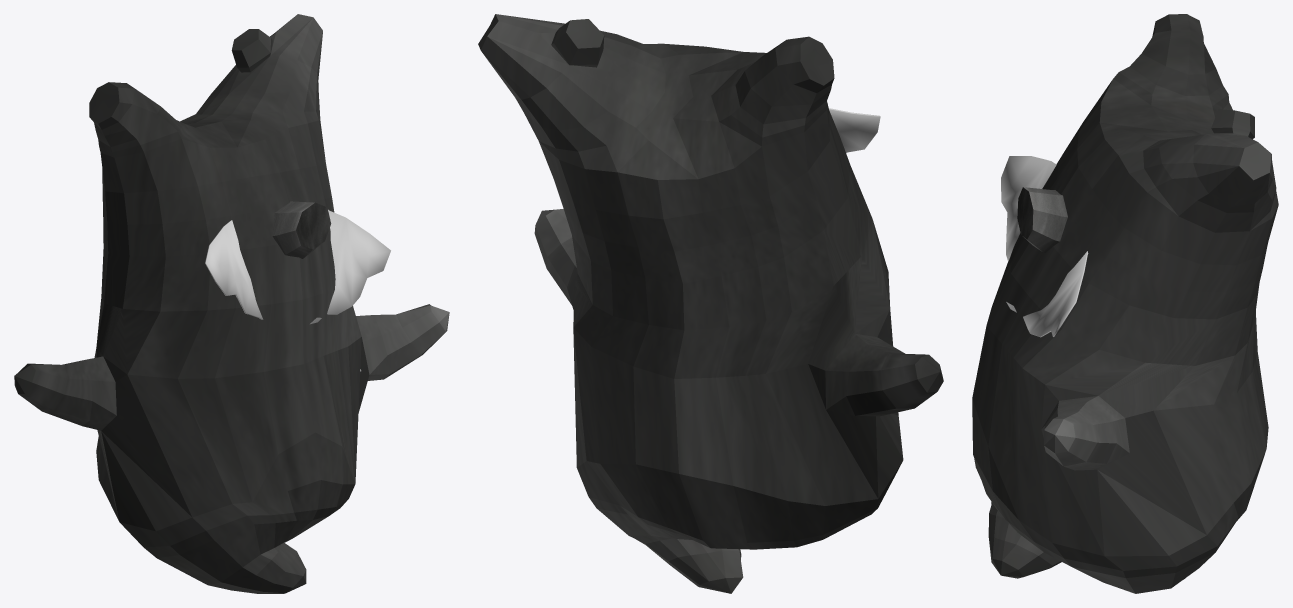
Rendered from frame_0018.obj.
3 views of the same model, side by side, from view 1: azimuth 30°, elevation 25°; view 2: azimuth 150°, elevation 25°; view 3: azimuth 270°, elevation 25° (orthographic). The views are drawn at different scales.
Visible parts, largest first — view 1: korok, leaf, nose; view 2: korok, leaf; view 3: korok, leaf, nose.
Boxes of the visible parts, x1,y1,x2,y2 form: korok: [14, 14, 449, 593]; leaf: [205, 209, 390, 324]; nose: [272, 201, 331, 258]; korok: [478, 14, 943, 593]; leaf: [828, 108, 880, 152]; korok: [972, 14, 1278, 593]; leaf: [1001, 156, 1088, 337]; nose: [1017, 187, 1067, 252].
Bounding box in the file's own units: 1.79 × 2.15 × 1.14.
